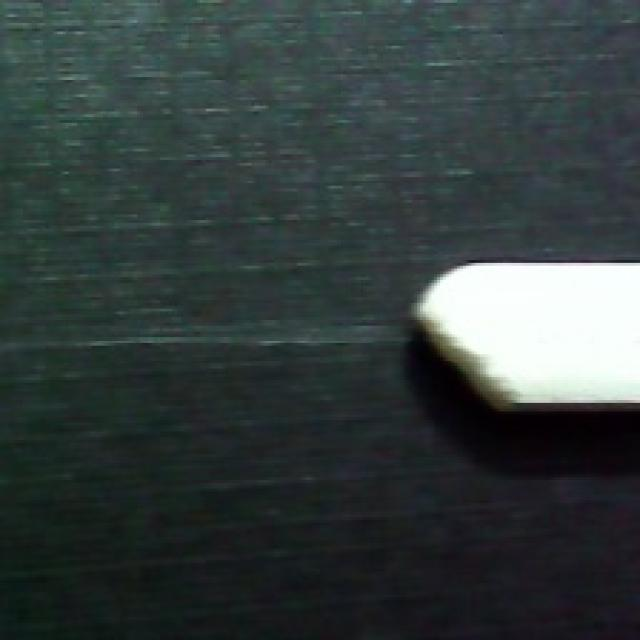defected: (406, 249, 640, 420)
